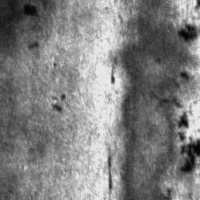inclusion: (174, 109, 199, 175), (179, 19, 200, 43), (20, 2, 41, 20)
patches: (117, 2, 183, 200), (2, 0, 54, 52)
